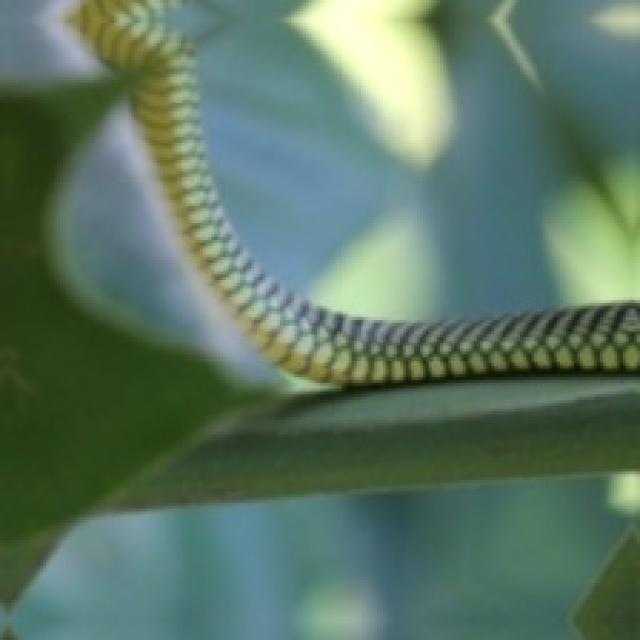paradise tree snake: (71, 0, 637, 386)
